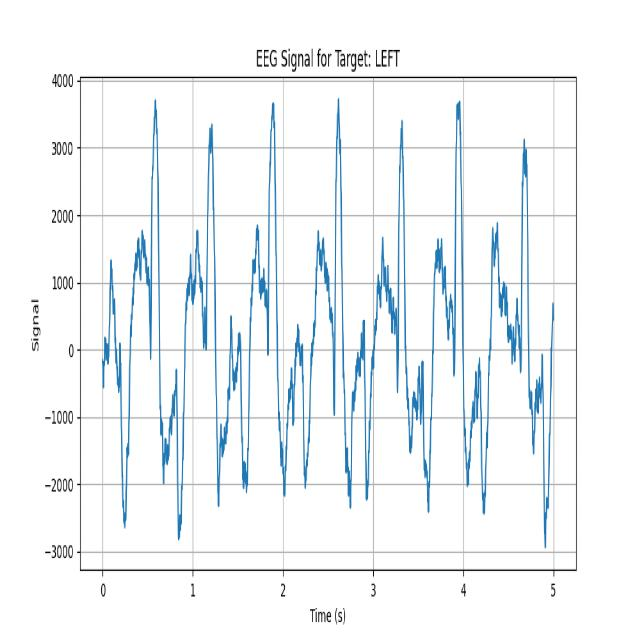LEFT: (236, 85, 301, 538), (301, 84, 365, 541), (420, 84, 484, 537), (173, 87, 236, 540), (485, 85, 547, 538), (110, 85, 173, 529), (365, 84, 418, 540)
